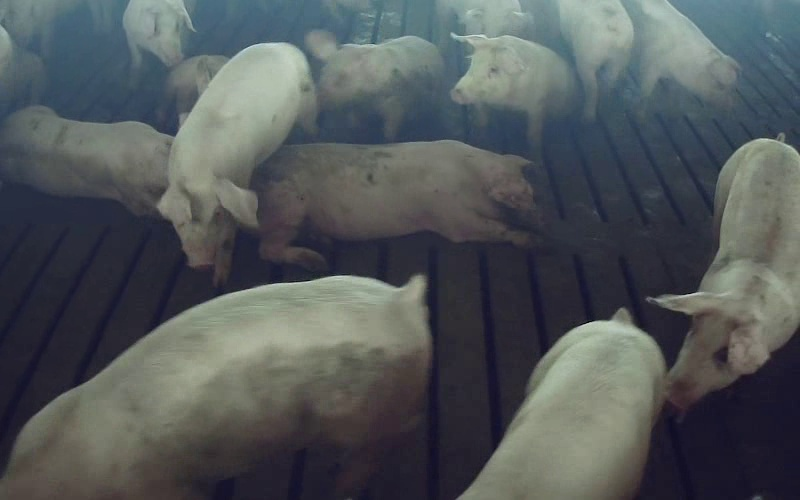pig: (0, 276, 430, 497), (651, 139, 799, 410), (458, 309, 665, 499), (158, 44, 314, 285), (251, 140, 537, 269), (451, 34, 576, 161), (307, 31, 443, 141), (624, 0, 739, 119), (559, 0, 633, 120), (123, 0, 195, 68)
